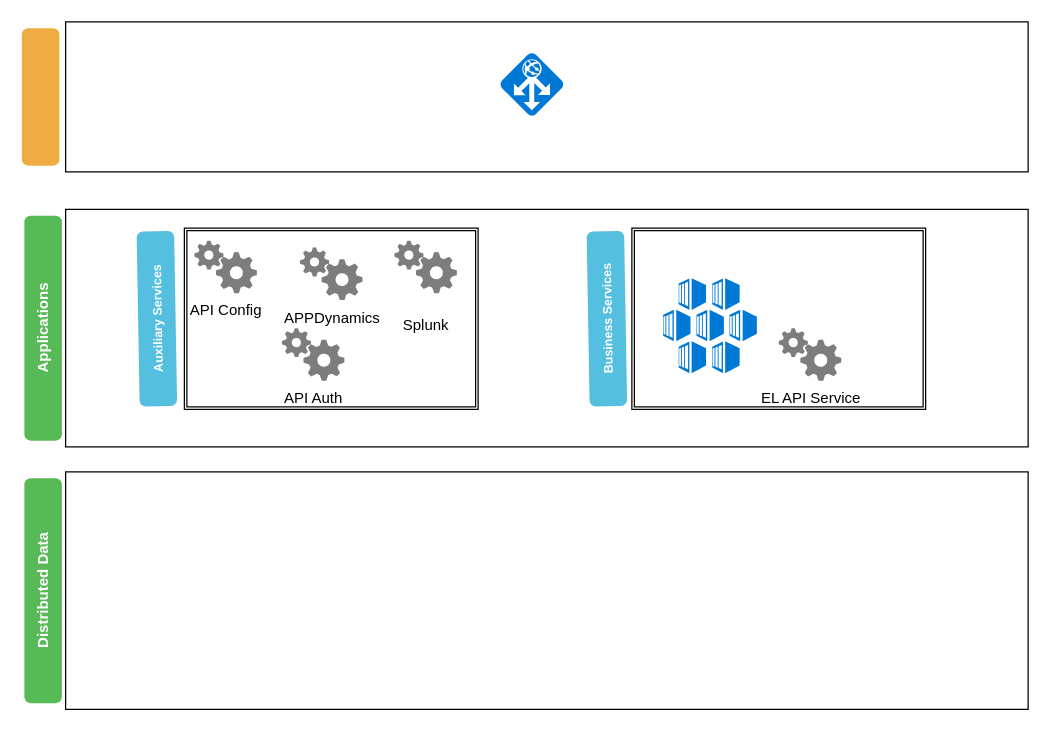
Image size: 1050x731. Some labels were removed from this diagram. The shapes that lost their labels are listed below. From the top down, each one's centre as x and y in pixels, then its label:
the point at 40,96: DMZ
the point at 531,83: Gateway
the point at 709,325: Orchestrator
